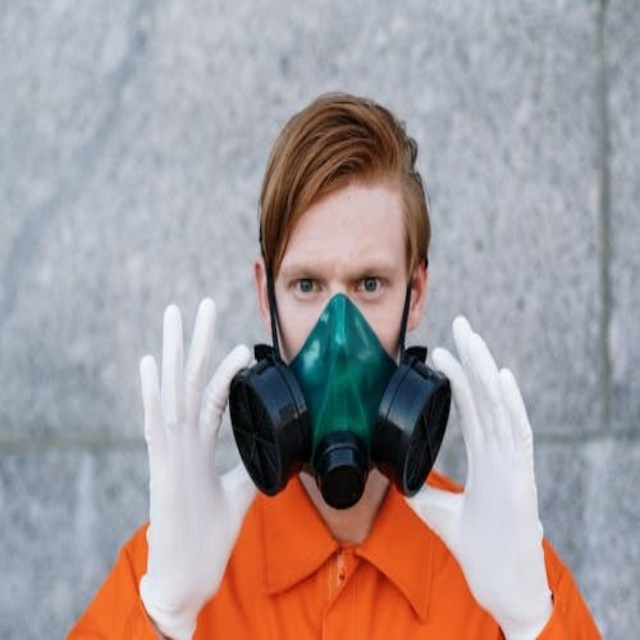Guantes: (412, 316, 554, 640), (137, 296, 259, 640)
Mascara: (229, 243, 450, 508)
Sin_gafas: (275, 242, 402, 317)
